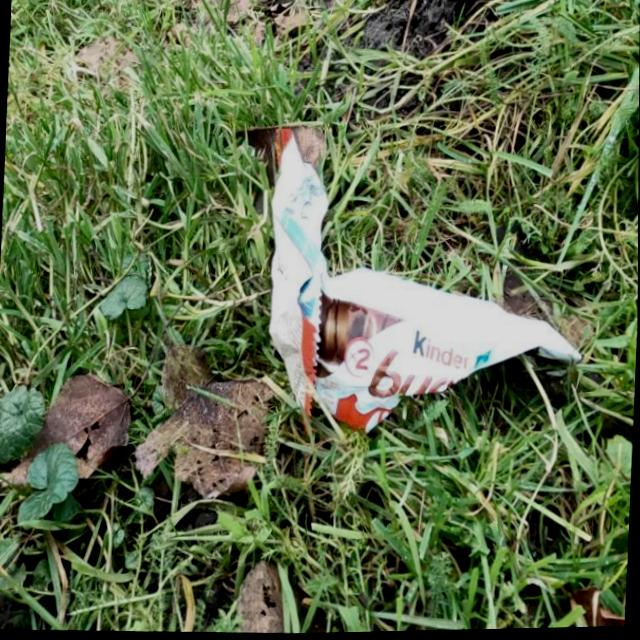Plastic: (262, 120, 594, 446)
